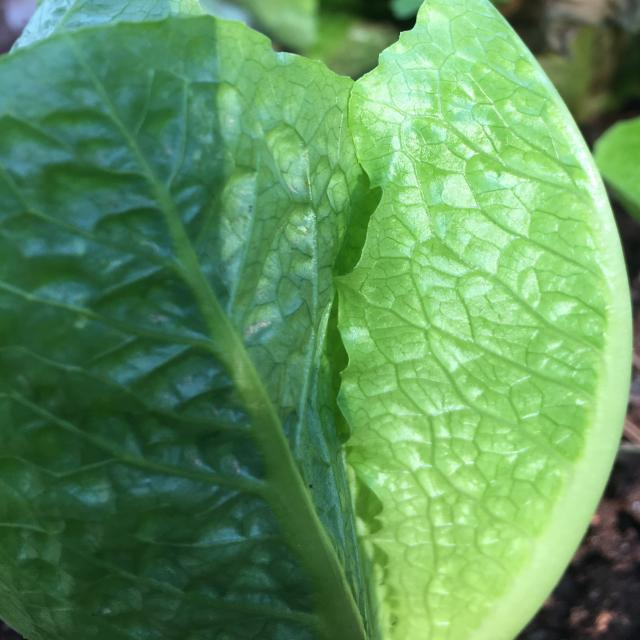Healthy Lettuce: (2, 8, 362, 637), (334, 2, 628, 637)
